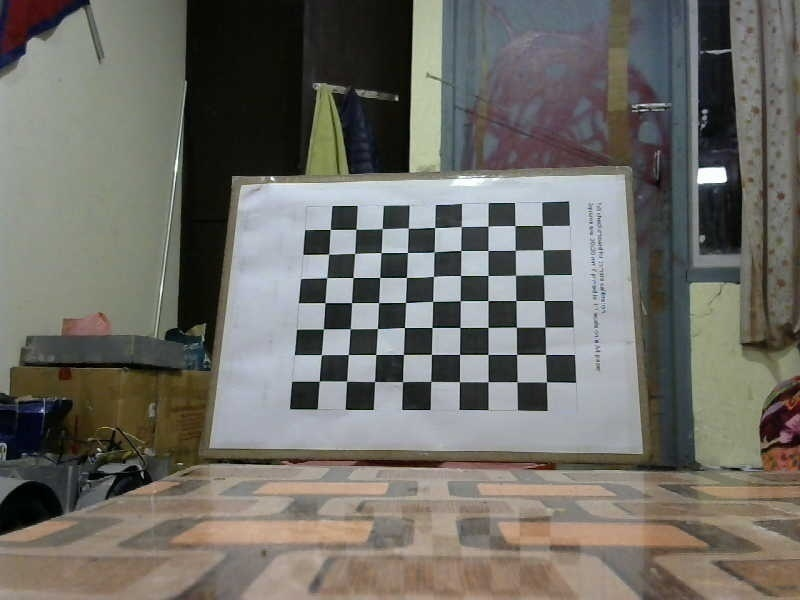block: (229, 173, 651, 459)
